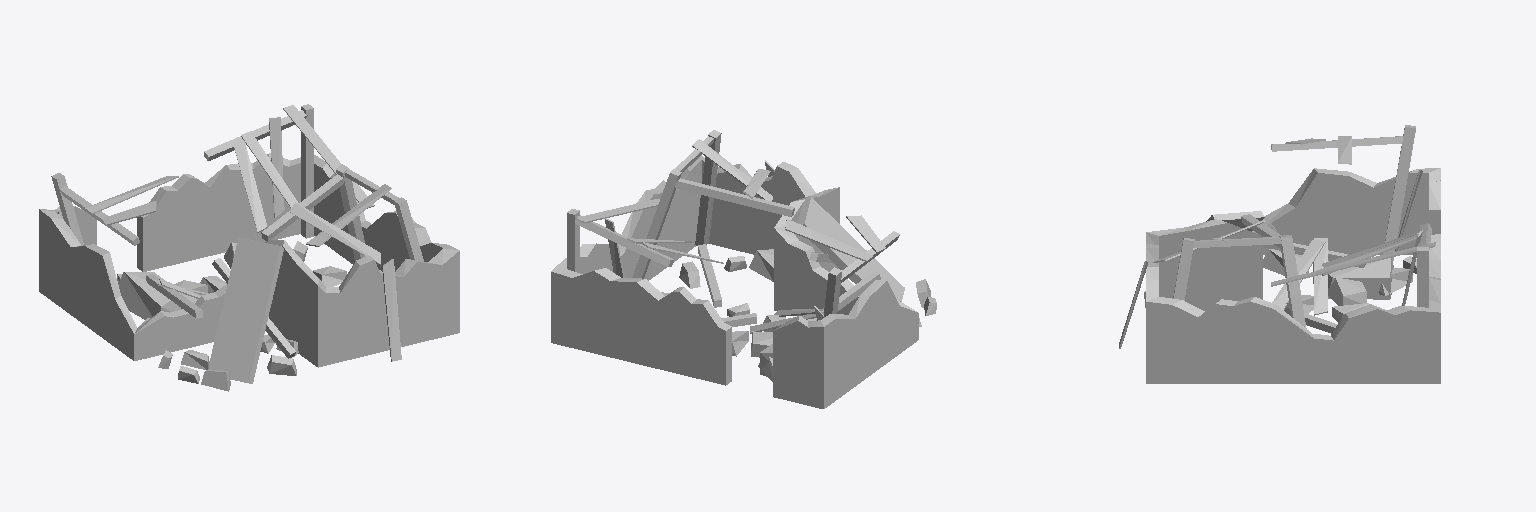
The model's file is Ruin_House.obj.
The picture shows the model from 3 angles: view 1: azimuth 30°, elevation 25°; view 2: azimuth 150°, elevation 25°; view 3: azimuth 270°, elevation 25°; orthographic projection.
Visible parts, largest first — view 1: initialShadingGroup1 polySurface56 polySurface1, initialShadingGroup1 polySurface18 polySurface56 polySurface1, initialShadingGroup1 polySurface56 polySurface57 polySurface1, initialShadingGroup1 polySurface42 polySurface56 polySurface1, initialShadingGroup1 polySurface7 polySurface56 polySurface1, initialShadingGroup1 polySurface28 polySurface56 polySurface1, initialShadingGroup1 polySurface10 polySurface56 polySurface1, initialShadingGroup1 polySurface13 polySurface56 polySurface1, initialShadingGroup1 polySurface16 polySurface56 polySurface1, initialShadingGroup1 polySurface25 polySurface56 polySurface1, initialShadingGroup1 polySurface14 polySurface56 polySurface1, initialShadingGroup1 polySurface12 polySurface56 polySurface1 (+10 smaller); view 2: initialShadingGroup1 polySurface56 polySurface1, initialShadingGroup1 polySurface56 polySurface57 polySurface1, initialShadingGroup1 polySurface18 polySurface56 polySurface1, initialShadingGroup1 polySurface25 polySurface56 polySurface1, initialShadingGroup1 polySurface27 polySurface56 polySurface1, initialShadingGroup1 polySurface26 polySurface56 polySurface1, initialShadingGroup1 polySurface15 polySurface56 polySurface1, initialShadingGroup1 polySurface4 polySurface56 polySurface1, initialShadingGroup1 polySurface11 polySurface56 polySurface1, initialShadingGroup1 polySurface28 polySurface56 polySurface1, initialShadingGroup1 polySurface22 polySurface56 polySurface1, initialShadingGroup1 polySurface20 polySurface56 polySurface1 (+4 smaller); view 3: initialShadingGroup1 polySurface56 polySurface1, initialShadingGroup1 polySurface56 polySurface57 polySurface1, initialShadingGroup1 polySurface42 polySurface56 polySurface1, initialShadingGroup1 polySurface22 polySurface56 polySurface1, initialShadingGroup1 polySurface26 polySurface56 polySurface1, initialShadingGroup1 polySurface43 polySurface56 polySurface1, initialShadingGroup1 polySurface5 polySurface56 polySurface1, initialShadingGroup1 polySurface2 polySurface56 polySurface1, initialShadingGroup1 polySurface16 polySurface56 polySurface1, initialShadingGroup1 polySurface56 polySurface58 polySurface1, initialShadingGroup1 polySurface28 polySurface56 polySurface1, initialShadingGroup1 polySurface27 polySurface56 polySurface1 (+1 smaller).
Boxes of the visible parts, <box> form: initialShadingGroup1 polySurface56 polySurface1: <box>39,153,459,367</box>; initialShadingGroup1 polySurface18 polySurface56 polySurface1: <box>208,238,283,383</box>; initialShadingGroup1 polySurface56 polySurface57 polySurface1: <box>74,164,440,271</box>; initialShadingGroup1 polySurface42 polySurface56 polySurface1: <box>118,272,181,319</box>; initialShadingGroup1 polySurface7 polySurface56 polySurface1: <box>382,259,401,361</box>; initialShadingGroup1 polySurface28 polySurface56 polySurface1: <box>301,104,313,238</box>; initialShadingGroup1 polySurface10 polySurface56 polySurface1: <box>289,202,380,264</box>; initialShadingGroup1 polySurface13 polySurface56 polySurface1: <box>233,141,266,232</box>; initialShadingGroup1 polySurface16 polySurface56 polySurface1: <box>283,105,374,208</box>; initialShadingGroup1 polySurface25 polySurface56 polySurface1: <box>261,174,343,241</box>; initialShadingGroup1 polySurface14 polySurface56 polySurface1: <box>241,131,298,207</box>; initialShadingGroup1 polySurface12 polySurface56 polySurface1: <box>269,117,284,217</box>; initialShadingGroup1 polySurface56 polySurface1: <box>551,155,918,408</box>; initialShadingGroup1 polySurface56 polySurface57 polySurface1: <box>581,160,857,313</box>; initialShadingGroup1 polySurface18 polySurface56 polySurface1: <box>798,197,904,301</box>; initialShadingGroup1 polySurface25 polySurface56 polySurface1: <box>675,178,794,216</box>; initialShadingGroup1 polySurface27 polySurface56 polySurface1: <box>695,130,721,245</box>; initialShadingGroup1 polySurface26 polySurface56 polySurface1: <box>632,169,681,278</box>; initialShadingGroup1 polySurface15 polySurface56 polySurface1: <box>575,215,673,266</box>; initialShadingGroup1 polySurface4 polySurface56 polySurface1: <box>785,219,873,261</box>; initialShadingGroup1 polySurface11 polySurface56 polySurface1: <box>692,139,772,200</box>; initialShadingGroup1 polySurface28 polySurface56 polySurface1: <box>567,209,579,272</box>; initialShadingGroup1 polySurface22 polySurface56 polySurface1: <box>824,267,841,316</box>; initialShadingGroup1 polySurface20 polySurface56 polySurface1: <box>698,244,721,307</box>; initialShadingGroup1 polySurface56 polySurface1: <box>1146,168,1440,383</box>; initialShadingGroup1 polySurface56 polySurface57 polySurface1: <box>1159,173,1428,309</box>; initialShadingGroup1 polySurface42 polySurface56 polySurface1: <box>1313,258,1393,299</box>; initialShadingGroup1 polySurface22 polySurface56 polySurface1: <box>1383,125,1415,260</box>; initialShadingGroup1 polySurface26 polySurface56 polySurface1: <box>1279,235,1306,328</box>; initialShadingGroup1 polySurface43 polySurface56 polySurface1: <box>1328,277,1366,305</box>; initialShadingGroup1 polySurface5 polySurface56 polySurface1: <box>1271,136,1402,151</box>; initialShadingGroup1 polySurface2 polySurface56 polySurface1: <box>1314,238,1327,315</box>; initialShadingGroup1 polySurface16 polySurface56 polySurface1: <box>1271,242,1435,286</box>; initialShadingGroup1 polySurface56 polySurface58 polySurface1: <box>1272,240,1325,309</box>; initialShadingGroup1 polySurface28 polySurface56 polySurface1: <box>1417,247,1428,307</box>; initialShadingGroup1 polySurface27 polySurface56 polySurface1: <box>1173,238,1194,300</box>.
Size of the model in its own units: 0.9819 by 0.4823 by 0.9996.